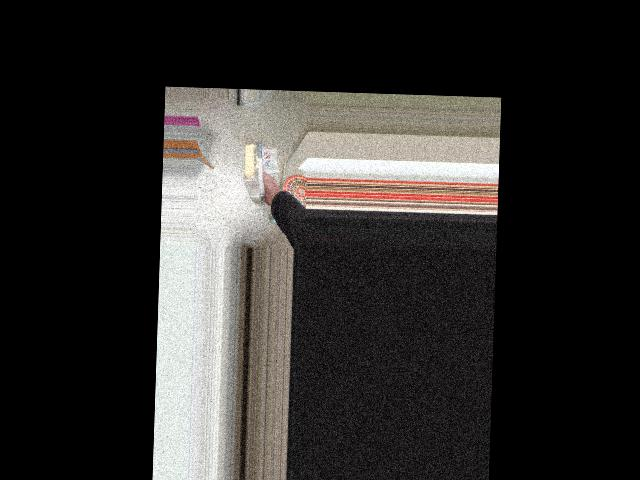cheese: (235, 139, 279, 201)
